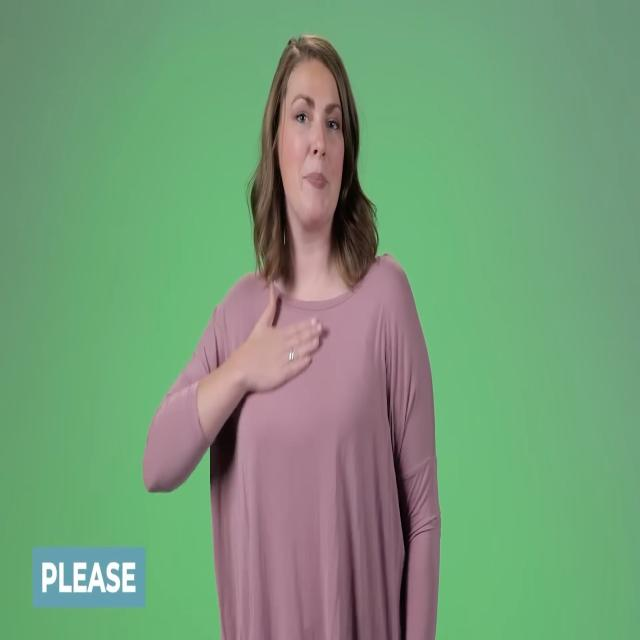please: (210, 280, 338, 410)
